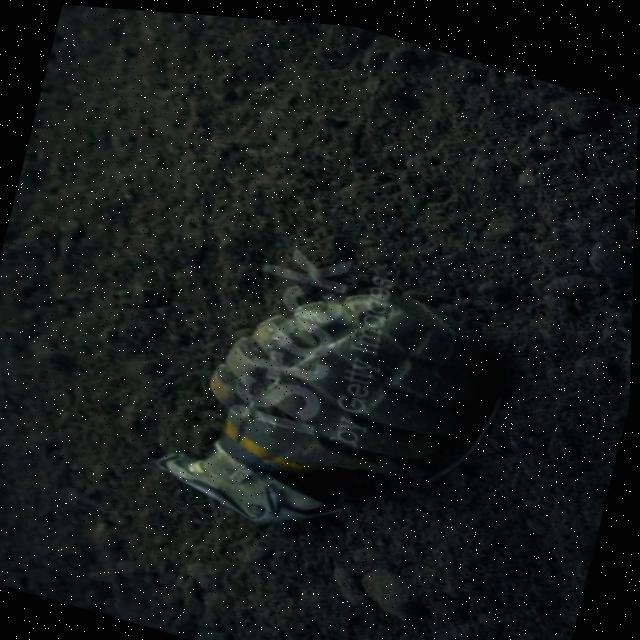grenade: (145, 224, 534, 576)
